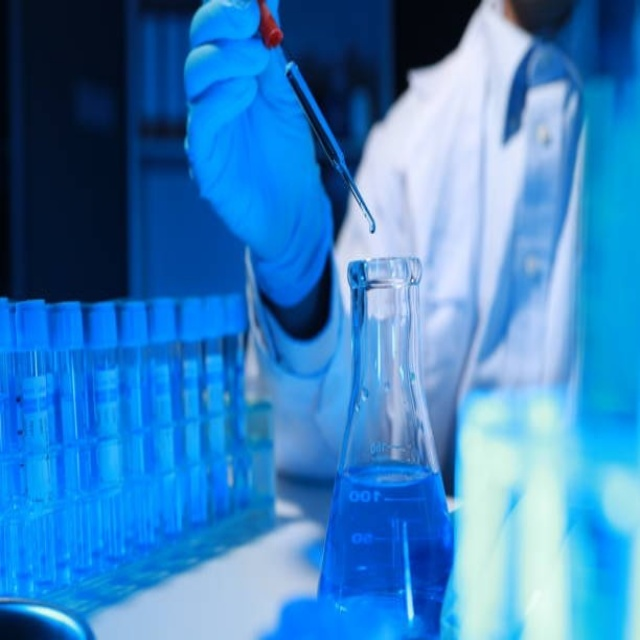Guantes: (184, 0, 335, 309)
